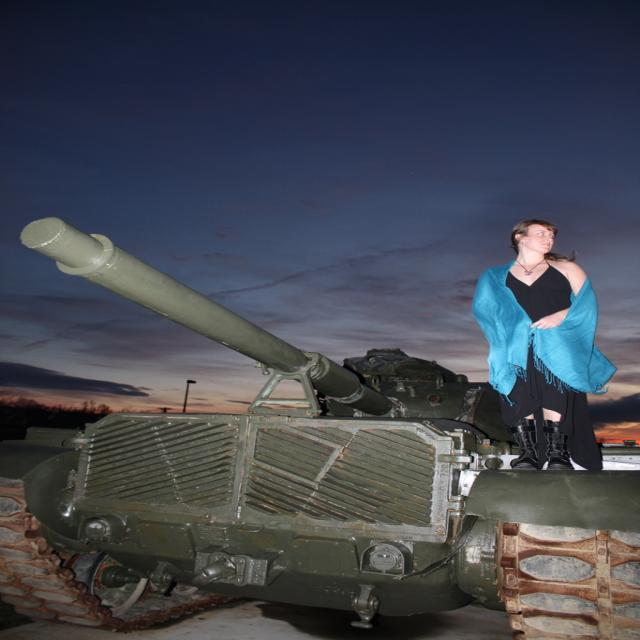tank: (0, 215, 639, 639)
